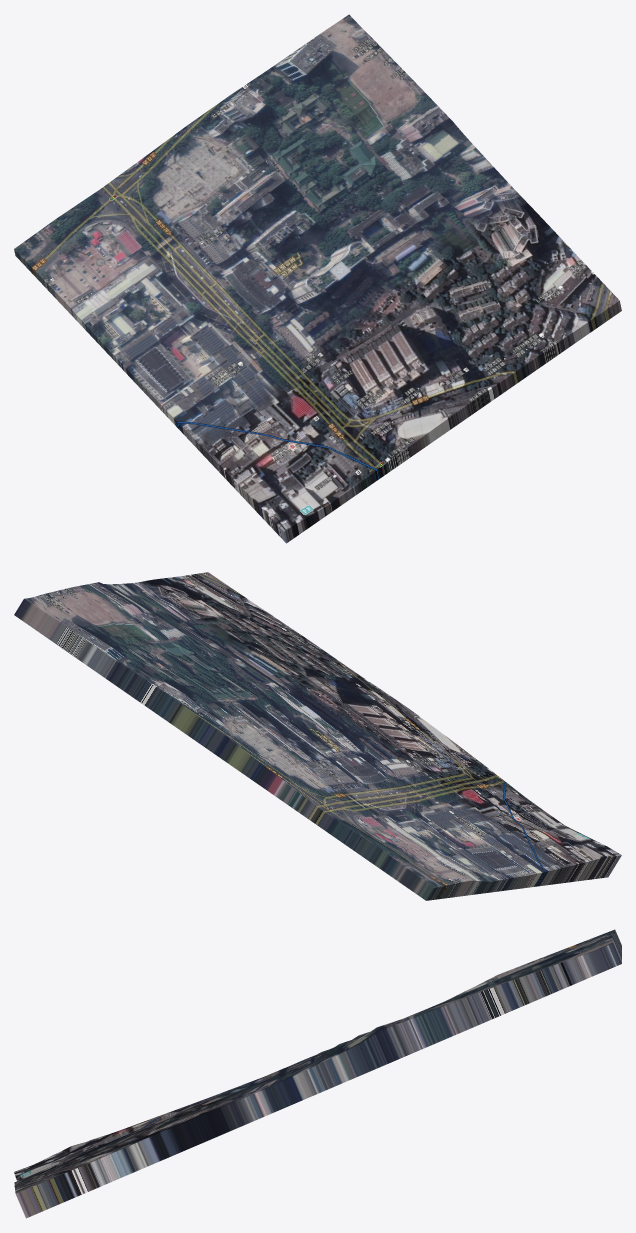
The picture shows the model from 3 angles, top to bottom: view 1: azimuth 30°, elevation 25°; view 2: azimuth 150°, elevation 25°; view 3: azimuth 270°, elevation 25°; orthographic projection. The views are drawn at different scales.
Parts seen in each view (by area): view 1: 0_6_9; view 2: 0_6_9; view 3: 0_6_9.
Boxes of the visible parts, x1,y1,x2,y2 form: 0_6_9: [14, 14, 621, 543]; 0_6_9: [14, 572, 621, 900]; 0_6_9: [14, 929, 621, 1218].
Bounding box in the file's own units: 598 × 445 × 553.
1 material, 1 textured.
